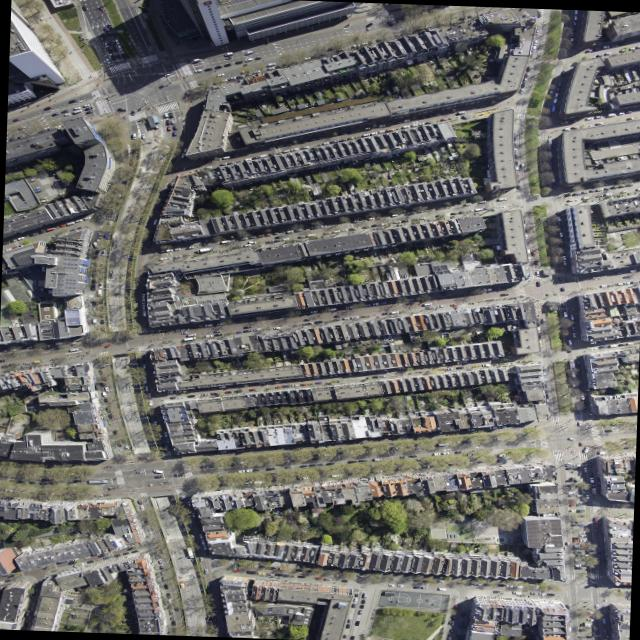large-vehicle: (199, 246, 213, 251), (569, 358, 575, 369), (183, 335, 196, 340), (72, 561, 84, 566), (179, 579, 185, 587), (551, 103, 556, 111), (205, 322, 213, 326), (187, 332, 196, 335), (204, 567, 208, 573), (205, 333, 212, 336), (199, 555, 203, 560), (571, 371, 575, 376)
small-vehicle: (120, 51, 127, 58), (387, 19, 395, 25), (46, 225, 55, 230), (66, 219, 75, 224), (259, 152, 268, 157), (191, 57, 200, 62), (253, 479, 264, 483), (86, 293, 93, 299), (116, 192, 122, 199), (246, 569, 256, 573), (438, 441, 448, 445), (458, 620, 463, 628), (331, 472, 341, 476), (153, 468, 163, 472), (422, 301, 432, 305), (36, 229, 46, 233), (308, 136, 316, 141), (365, 21, 373, 26), (82, 554, 91, 558), (295, 567, 304, 571), (266, 571, 275, 575), (244, 49, 253, 53), (267, 61, 276, 65), (373, 456, 382, 460), (174, 472, 183, 476), (282, 383, 291, 387), (328, 306, 337, 310), (224, 51, 233, 55), (146, 240, 152, 246), (74, 217, 83, 221), (73, 108, 82, 112), (84, 105, 93, 109), (222, 154, 231, 158), (204, 158, 213, 162), (385, 127, 394, 131), (61, 108, 70, 112), (457, 109, 466, 113), (531, 44, 537, 50), (109, 40, 115, 46), (105, 57, 111, 63), (99, 33, 105, 39), (585, 47, 594, 51), (307, 232, 316, 236), (204, 66, 213, 70), (93, 240, 98, 247), (525, 247, 530, 254), (201, 483, 212, 486), (12, 576, 20, 580), (55, 560, 63, 564), (438, 586, 446, 590), (586, 609, 594, 613), (236, 73, 244, 77), (267, 65, 275, 69), (228, 75, 236, 79), (409, 453, 417, 457), (498, 452, 506, 456), (235, 59, 243, 63), (599, 449, 607, 453), (305, 320, 313, 324), (22, 269, 30, 273), (29, 231, 37, 235), (266, 239, 274, 243), (86, 109, 94, 113), (38, 128, 46, 132), (301, 144, 309, 148), (267, 145, 275, 149), (282, 148, 290, 152), (340, 227, 348, 231), (83, 215, 91, 219), (33, 185, 41, 189), (73, 105, 81, 109), (12, 116, 20, 120), (43, 105, 51, 109), (68, 98, 76, 102), (330, 138, 338, 142), (290, 146, 298, 150), (604, 191, 612, 195), (585, 115, 593, 119), (310, 53, 318, 57), (303, 55, 311, 59), (569, 118, 577, 122), (289, 59, 297, 63), (352, 42, 360, 46), (282, 236, 290, 240), (286, 228, 294, 232), (194, 68, 202, 72), (358, 608, 363, 614), (355, 619, 360, 625), (171, 619, 176, 625), (584, 445, 589, 451), (102, 390, 107, 396), (477, 459, 487, 462), (116, 441, 122, 446), (106, 406, 111, 412), (121, 438, 127, 443), (69, 347, 79, 350), (92, 317, 97, 323), (104, 342, 110, 347), (142, 376, 147, 382), (104, 232, 109, 238), (107, 202, 112, 208), (136, 171, 141, 177), (313, 319, 323, 322), (204, 548, 210, 553), (108, 219, 113, 225), (561, 69, 566, 75), (533, 38, 538, 44), (557, 80, 562, 86), (114, 38, 120, 43), (111, 31, 116, 37), (115, 53, 120, 59), (106, 31, 111, 37), (200, 538, 206, 543), (139, 504, 145, 509), (72, 556, 79, 560), (114, 552, 121, 556), (392, 433, 399, 437), (238, 468, 245, 472), (1, 363, 8, 367), (247, 316, 254, 320), (10, 237, 17, 241), (17, 235, 24, 239), (12, 244, 19, 248), (98, 288, 102, 295), (245, 56, 252, 60), (166, 247, 173, 251), (174, 246, 181, 250), (60, 222, 67, 226), (39, 195, 46, 199), (16, 134, 23, 138), (46, 126, 53, 130), (268, 151, 275, 155), (53, 177, 60, 181), (49, 171, 56, 175), (28, 177, 35, 181), (58, 190, 65, 194), (352, 218, 359, 222), (83, 102, 90, 106), (69, 227, 76, 231), (619, 183, 626, 187), (395, 119, 402, 123), (403, 117, 410, 121), (411, 122, 418, 126), (322, 140, 329, 144), (64, 111, 71, 115), (198, 80, 205, 84), (461, 114, 468, 118), (275, 63, 282, 67), (361, 40, 368, 44), (336, 47, 343, 51), (328, 45, 335, 49), (602, 44, 609, 48), (620, 47, 627, 51), (514, 584, 523, 587), (512, 590, 521, 593), (430, 579, 439, 582), (348, 459, 357, 462), (358, 458, 367, 461), (252, 69, 261, 72), (266, 466, 275, 469), (395, 445, 404, 448), (375, 435, 384, 438), (366, 436, 375, 439), (318, 440, 327, 443), (390, 467, 399, 470), (498, 458, 507, 461), (482, 362, 491, 365), (596, 339, 605, 342), (609, 343, 618, 346), (205, 386, 214, 389), (221, 239, 230, 242), (233, 244, 242, 247), (350, 315, 359, 318), (406, 210, 415, 213), (474, 207, 483, 210), (614, 281, 623, 284), (630, 279, 639, 282), (32, 359, 41, 362), (310, 453, 319, 456), (310, 456, 319, 459), (7, 137, 16, 140), (607, 112, 616, 115), (117, 107, 126, 110), (243, 480, 252, 483), (351, 602, 356, 607), (362, 592, 367, 597), (164, 583, 169, 588), (162, 575, 167, 580), (350, 634, 355, 639), (159, 564, 164, 569), (453, 603, 458, 608), (595, 582, 600, 587), (166, 592, 171, 597), (108, 413, 113, 418), (151, 413, 156, 418), (202, 543, 207, 548), (157, 434, 162, 439), (144, 385, 149, 390), (589, 476, 594, 481), (96, 238, 101, 243), (97, 232, 102, 237), (148, 234, 153, 239), (571, 326, 576, 331), (165, 187, 170, 192), (167, 181, 172, 186), (160, 197, 165, 202), (514, 166, 519, 171), (556, 215, 561, 220), (165, 118, 170, 123), (168, 111, 173, 116), (180, 152, 185, 157), (82, 4, 87, 9), (163, 111, 168, 116), (107, 23, 112, 28), (519, 87, 524, 92), (555, 86, 560, 91), (104, 41, 109, 46), (107, 47, 112, 52), (548, 90, 553, 95), (103, 25, 108, 30), (117, 44, 122, 49), (257, 570, 265, 573), (204, 567, 208, 573), (267, 565, 275, 568), (297, 574, 305, 577), (304, 568, 312, 571), (547, 592, 555, 595), (565, 603, 569, 609), (530, 591, 538, 594), (455, 449, 463, 452), (322, 452, 330, 455), (345, 450, 353, 453), (318, 461, 326, 464), (327, 461, 335, 464), (26, 458, 34, 461), (270, 445, 278, 448), (542, 317, 546, 323), (208, 463, 216, 466), (448, 429, 456, 432), (399, 433, 407, 436), (327, 440, 335, 443), (366, 469, 374, 472), (467, 427, 475, 430), (489, 425, 497, 428), (498, 424, 506, 427), (456, 461, 464, 464), (458, 428, 466, 431), (624, 445, 632, 448), (187, 393, 195, 396), (22, 360, 30, 363), (10, 347, 18, 350), (101, 376, 107, 380), (210, 391, 218, 394), (227, 383, 235, 386), (249, 381, 257, 384), (244, 328, 252, 331), (224, 390, 232, 393), (233, 318, 241, 321), (329, 373, 337, 376), (456, 365, 464, 368), (253, 327, 261, 330), (459, 359, 467, 362), (468, 358, 476, 361), (518, 353, 526, 356), (599, 344, 607, 347), (546, 398, 550, 404), (91, 283, 95, 289), (566, 478, 574, 481), (181, 330, 189, 333), (201, 392, 209, 395), (301, 310, 309, 313), (99, 297, 103, 303), (243, 242, 251, 245), (280, 313, 288, 316), (240, 236, 248, 239), (100, 261, 104, 267), (333, 317, 341, 320), (391, 310, 399, 313), (450, 302, 458, 305), (439, 291, 447, 294), (426, 305, 434, 308), (484, 287, 492, 290), (493, 286, 501, 289), (159, 256, 167, 259), (186, 245, 194, 248), (174, 254, 182, 257), (40, 198, 48, 201), (563, 310, 567, 316), (498, 196, 506, 199), (393, 219, 401, 222), (401, 218, 409, 221), (349, 226, 357, 229), (371, 223, 379, 226), (153, 218, 157, 224), (159, 202, 163, 208), (204, 165, 212, 168), (18, 125, 26, 128), (526, 254, 530, 260), (314, 380, 322, 383), (596, 187, 604, 190), (347, 129, 355, 132), (362, 132, 370, 135), (370, 131, 378, 134), (402, 124, 410, 127), (425, 119, 431, 123), (316, 135, 324, 138), (573, 191, 581, 194), (581, 195, 589, 198), (52, 111, 60, 114), (577, 508, 585, 511), (570, 502, 576, 506), (132, 132, 136, 138), (548, 137, 552, 143), (537, 10, 541, 16), (320, 51, 326, 55), (223, 62, 231, 65), (459, 15, 467, 18), (415, 26, 423, 29), (248, 235, 256, 238), (58, 492, 66, 495), (226, 481, 234, 484), (573, 550, 581, 553), (294, 227, 302, 230), (311, 225, 319, 228), (441, 110, 449, 113), (41, 477, 49, 480), (46, 491, 54, 494), (17, 479, 25, 482), (154, 474, 162, 477), (579, 538, 587, 541), (216, 72, 224, 75), (619, 41, 627, 44), (214, 64, 222, 67), (232, 568, 239, 571), (4, 578, 11, 581), (86, 559, 93, 562), (63, 559, 70, 562), (1, 573, 8, 576), (452, 440, 459, 443), (463, 439, 470, 442), (439, 430, 446, 433), (282, 573, 289, 576), (290, 573, 297, 576), (579, 627, 586, 630), (506, 583, 513, 586), (357, 573, 364, 576), (397, 583, 404, 586), (421, 585, 428, 588), (122, 551, 129, 554), (315, 576, 322, 579), (538, 591, 545, 594), (442, 450, 449, 453), (302, 442, 309, 445), (291, 458, 298, 461), (433, 451, 440, 454), (254, 55, 261, 58), (228, 448, 235, 451), (246, 447, 253, 450), (218, 463, 225, 466), (210, 450, 217, 453), (70, 460, 77, 463), (573, 466, 580, 469), (507, 423, 514, 426), (400, 454, 407, 457), (336, 439, 343, 442), (568, 436, 575, 439), (422, 464, 429, 467), (515, 422, 522, 425), (484, 582, 491, 585), (605, 428, 612, 431), (169, 395, 176, 398), (55, 341, 62, 344), (8, 362, 15, 365), (0, 348, 7, 351), (69, 341, 76, 344), (219, 384, 226, 387), (249, 387, 256, 390), (290, 377, 297, 380), (215, 332, 222, 335), (214, 329, 221, 332), (244, 324, 251, 327), (338, 372, 345, 375), (380, 373, 387, 376), (273, 325, 280, 328), (446, 360, 453, 363), (477, 357, 484, 360), (485, 356, 492, 359), (447, 366, 454, 369), (589, 340, 596, 343), (619, 342, 626, 345), (626, 341, 633, 344), (274, 238, 281, 241), (271, 314, 278, 317), (310, 309, 317, 312), (380, 300, 387, 303), (334, 313, 341, 316), (347, 304, 354, 307), (372, 301, 379, 304), (437, 303, 444, 306), (547, 585, 554, 588), (183, 252, 190, 255), (34, 188, 41, 191), (54, 124, 61, 127), (231, 153, 238, 156), (252, 155, 259, 158), (285, 142, 292, 145), (479, 199, 486, 202), (451, 210, 458, 213), (436, 213, 443, 216), (467, 208, 474, 211), (464, 201, 471, 204), (412, 217, 419, 220), (333, 229, 340, 232), (391, 212, 398, 215), (623, 274, 630, 277), (600, 283, 607, 286), (623, 280, 630, 283), (616, 270, 623, 273), (629, 268, 636, 271), (363, 224, 370, 227), (368, 216, 375, 219), (620, 189, 627, 192), (626, 182, 633, 185), (610, 185, 617, 188), (340, 137, 347, 140), (378, 123, 385, 126), (418, 121, 425, 124), (378, 129, 385, 132), (300, 139, 307, 142), (565, 192, 572, 195), (582, 189, 589, 192), (596, 193, 603, 196), (77, 225, 84, 228), (225, 55, 232, 58), (595, 114, 602, 117), (596, 121, 603, 124), (577, 513, 584, 516), (568, 500, 575, 503), (576, 502, 583, 505), (568, 493, 575, 496), (467, 13, 474, 16), (563, 126, 570, 129), (560, 120, 567, 123), (219, 482, 226, 485), (593, 46, 600, 49), (265, 232, 272, 235), (298, 234, 305, 237), (220, 161, 227, 164), (244, 157, 251, 160), (5, 488, 12, 491), (13, 489, 20, 492), (604, 51, 611, 54), (610, 43, 617, 46), (573, 543, 580, 546), (628, 46, 635, 49), (131, 549, 138, 552), (573, 546, 580, 549), (31, 590, 35, 595), (26, 609, 30, 614), (218, 606, 222, 611), (346, 622, 350, 627), (220, 620, 224, 625), (213, 617, 217, 622), (449, 627, 453, 632), (602, 617, 606, 622), (602, 628, 606, 633), (168, 597, 172, 602), (175, 605, 179, 610), (172, 626, 176, 631), (583, 466, 587, 471), (589, 470, 593, 475), (164, 431, 168, 436), (150, 406, 154, 411), (149, 399, 153, 404), (158, 410, 162, 415), (542, 371, 546, 376), (104, 396, 108, 401), (101, 380, 105, 385), (98, 368, 102, 373), (99, 311, 103, 316), (92, 311, 96, 316), (576, 360, 580, 365), (577, 367, 581, 372), (579, 383, 583, 388), (141, 356, 145, 361), (580, 389, 584, 394), (581, 394, 585, 399), (568, 339, 572, 344), (149, 365, 153, 370), (565, 328, 569, 333), (567, 346, 571, 351), (37, 265, 41, 270), (92, 300, 96, 305), (92, 305, 96, 310), (101, 249, 105, 254), (95, 248, 99, 253), (92, 261, 97, 265), (93, 255, 97, 260), (99, 305, 103, 310), (141, 287, 145, 292), (135, 281, 139, 286), (142, 270, 146, 275), (143, 310, 147, 315), (142, 304, 146, 309), (561, 301, 565, 306), (570, 314, 574, 319), (562, 254, 566, 259), (535, 320, 539, 325), (554, 256, 558, 261), (112, 208, 116, 213), (163, 192, 167, 197), (150, 229, 154, 234), (537, 339, 541, 344), (537, 333, 541, 338), (536, 326, 540, 331), (525, 239, 529, 244), (557, 221, 562, 225), (558, 226, 562, 231), (559, 231, 563, 236), (552, 182, 556, 187), (560, 242, 564, 247), (173, 124, 177, 129), (100, 6, 104, 11), (513, 146, 517, 151), (167, 124, 171, 129), (141, 133, 145, 138), (131, 108, 135, 113), (524, 72, 529, 76), (527, 65, 531, 70), (535, 28, 539, 33), (112, 47, 117, 51), (521, 82, 525, 87), (549, 160, 553, 165), (553, 97, 557, 102), (137, 499, 142, 503), (187, 500, 191, 505), (193, 516, 197, 521), (195, 522, 199, 527), (188, 522, 193, 526), (195, 539, 199, 544), (593, 516, 597, 521), (144, 519, 149, 523), (570, 31, 574, 36), (594, 528, 598, 533), (597, 558, 601, 563), (161, 548, 165, 553), (374, 469, 383, 471), (259, 564, 265, 567), (275, 572, 281, 575), (390, 576, 396, 579), (341, 578, 347, 581), (587, 617, 593, 620), (103, 555, 109, 558), (246, 468, 252, 471), (434, 112, 440, 115), (501, 285, 507, 288), (236, 448, 245, 450), (286, 465, 292, 468), (220, 449, 226, 452), (58, 436, 64, 439), (572, 463, 581, 465), (426, 431, 432, 434), (432, 430, 438, 433), (334, 451, 343, 453), (494, 436, 500, 439), (259, 380, 265, 383), (266, 379, 272, 382), (300, 382, 306, 385), (308, 381, 314, 384), (217, 321, 223, 324), (399, 365, 405, 368), (372, 374, 378, 377), (493, 589, 499, 592), (304, 317, 310, 320), (339, 305, 345, 308), (382, 311, 388, 314), (276, 144, 282, 147), (142, 292, 145, 298), (419, 216, 425, 219), (324, 230, 330, 233), (376, 215, 382, 218), (380, 221, 386, 224), (561, 247, 564, 253), (412, 578, 421, 580), (522, 216, 525, 222), (347, 136, 353, 139), (364, 126, 370, 129), (419, 115, 425, 118), (340, 131, 346, 134), (567, 198, 573, 201), (590, 188, 596, 191), (572, 125, 578, 128), (618, 111, 624, 114), (626, 109, 632, 112), (627, 116, 633, 119), (281, 62, 287, 65), (30, 490, 36, 493), (10, 478, 16, 481), (597, 52, 603, 55), (258, 233, 264, 236), (427, 113, 433, 116), (441, 116, 447, 119), (573, 538, 579, 541), (361, 598, 365, 602), (347, 618, 351, 622), (354, 592, 358, 596), (207, 584, 211, 588), (353, 597, 357, 601), (360, 603, 364, 607), (161, 570, 165, 574), (343, 633, 347, 637), (461, 611, 465, 615), (158, 559, 162, 563), (578, 635, 586, 637), (595, 603, 599, 607), (474, 582, 482, 584), (309, 463, 317, 465), (27, 405, 35, 407), (51, 460, 59, 462), (226, 463, 234, 465), (579, 441, 583, 445), (57, 429, 65, 431), (136, 470, 144, 472), (125, 444, 129, 448), (160, 441, 164, 445), (113, 429, 117, 433), (153, 420, 157, 424), (167, 443, 171, 447), (234, 389, 242, 391), (291, 383, 299, 385), (380, 368, 388, 370), (543, 383, 547, 387), (542, 366, 546, 370), (175, 389, 183, 391), (406, 301, 414, 303), (501, 292, 509, 294), (363, 303, 371, 305), (534, 259, 538, 263), (558, 275, 562, 279), (129, 160, 133, 164), (319, 224, 327, 226), (551, 177, 555, 181), (172, 130, 176, 134), (183, 147, 187, 151), (171, 119, 175, 123), (548, 150, 552, 154), (111, 54, 115, 58), (523, 77, 527, 81), (554, 92, 558, 96), (40, 481, 48, 483), (574, 566, 582, 568), (572, 26, 576, 30), (69, 493, 77, 495), (73, 479, 81, 481), (179, 495, 183, 499), (191, 512, 195, 516), (199, 533, 203, 537), (566, 540, 570, 544), (597, 553, 601, 557), (581, 563, 589, 565), (220, 615, 223, 620), (448, 635, 451, 640), (452, 614, 455, 619), (532, 250, 535, 255), (588, 461, 591, 466), (160, 416, 163, 421), (105, 385, 108, 390), (101, 318, 104, 323), (576, 404, 579, 409), (42, 265, 45, 270), (24, 272, 29, 275), (99, 281, 102, 286), (92, 272, 95, 277), (93, 266, 96, 271), (142, 281, 145, 286), (536, 270, 539, 275), (142, 298, 145, 303), (563, 259, 566, 264), (142, 276, 145, 281), (535, 315, 538, 320), (604, 186, 609, 189), (560, 236, 563, 241), (513, 140, 516, 145), (513, 152, 516, 157), (515, 159, 518, 164), (573, 20, 576, 25), (574, 14, 577, 19), (228, 160, 233, 163), (537, 280, 540, 285), (635, 44, 640, 47), (251, 564, 258, 566), (324, 577, 331, 579), (586, 635, 593, 637), (300, 464, 307, 466), (237, 460, 244, 462), (29, 408, 36, 410), (36, 459, 43, 461), (253, 468, 260, 470), (359, 437, 366, 439), (481, 426, 488, 428), (61, 460, 68, 462), (466, 582, 473, 584), (235, 330, 242, 332), (359, 370, 366, 372), (368, 369, 375, 371), (492, 356, 499, 358), (498, 583, 505, 585), (566, 466, 573, 468), (567, 486, 574, 488), (197, 387, 204, 389), (249, 240, 256, 242), (407, 297, 414, 299), (459, 210, 466, 212), (456, 581, 463, 583), (568, 498, 575, 500), (576, 500, 583, 502), (568, 490, 575, 492), (571, 523, 578, 525), (38, 491, 45, 493), (269, 478, 276, 480), (574, 563, 581, 565), (574, 558, 581, 560), (29, 480, 36, 482), (49, 481, 56, 483), (578, 523, 585, 525), (95, 493, 102, 495), (275, 235, 282, 237), (572, 536, 579, 538), (581, 553, 588, 555), (579, 533, 586, 535), (217, 594, 220, 598), (222, 631, 225, 635), (389, 583, 395, 585), (451, 620, 454, 624), (414, 585, 420, 587), (423, 579, 429, 581), (212, 606, 215, 610), (44, 460, 50, 462), (78, 460, 84, 462), (86, 460, 92, 462), (578, 420, 581, 424), (57, 434, 63, 436), (166, 438, 169, 442), (101, 326, 104, 330), (200, 465, 206, 467), (54, 346, 60, 348), (275, 385, 281, 387), (313, 375, 319, 377), (322, 374, 328, 376), (573, 332, 576, 336), (543, 377, 546, 381), (544, 388, 547, 392), (545, 393, 548, 397), (92, 278, 95, 282), (167, 390, 173, 392), (343, 316, 349, 318), (159, 249, 165, 251), (517, 184, 520, 188), (561, 286, 564, 290), (417, 209, 423, 211), (483, 206, 489, 208), (152, 224, 155, 228), (0, 580, 4, 583), (456, 636, 459, 640), (523, 223, 526, 227), (525, 233, 528, 237), (516, 172, 519, 176), (513, 135, 516, 139), (521, 162, 524, 166), (586, 493, 589, 497), (570, 508, 576, 510), (570, 36, 573, 40), (549, 155, 552, 159), (548, 144, 551, 148), (571, 520, 577, 522), (68, 472, 74, 474), (576, 493, 582, 495), (581, 544, 587, 546), (579, 531, 585, 533), (595, 523, 598, 527), (597, 549, 600, 553), (581, 558, 587, 560), (556, 211, 559, 214), (143, 363, 145, 367), (636, 187, 640, 189)
